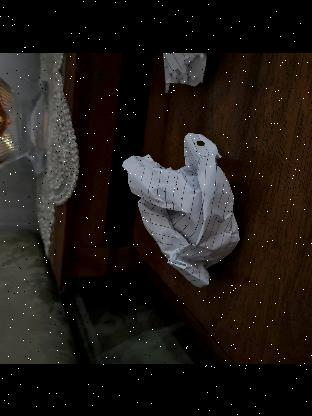Others: (123, 132, 239, 286)
